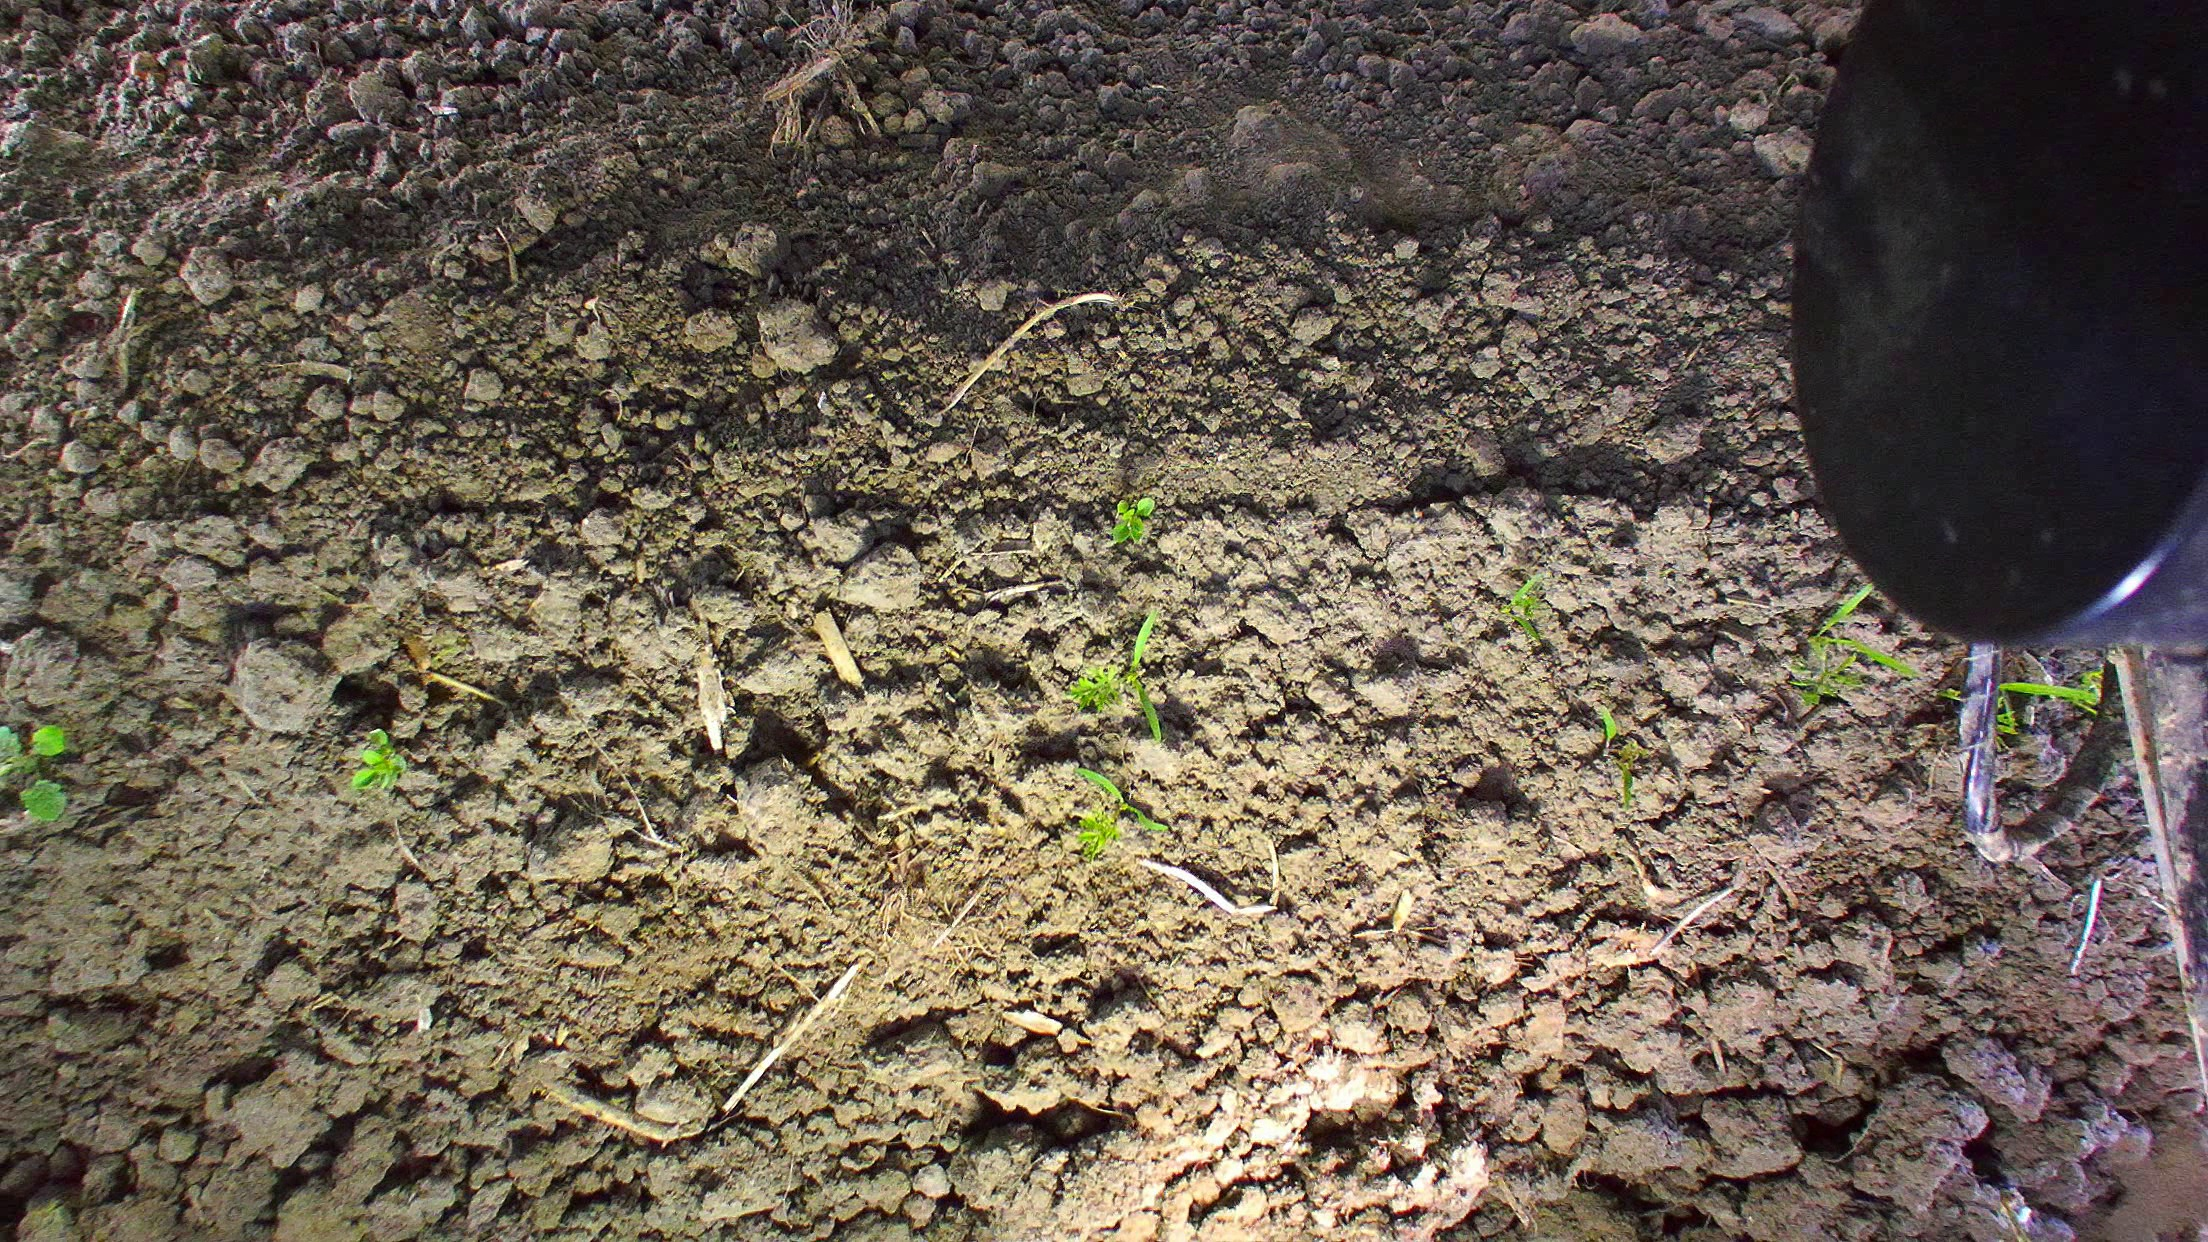Crop: (1786, 581, 1918, 708), (1062, 610, 1166, 745), (1071, 764, 1171, 834), (346, 725, 411, 801), (1497, 575, 1542, 641), (1074, 807, 1124, 863)
Weed: (1993, 658, 2126, 746), (0, 720, 76, 826), (1107, 493, 1159, 547)
